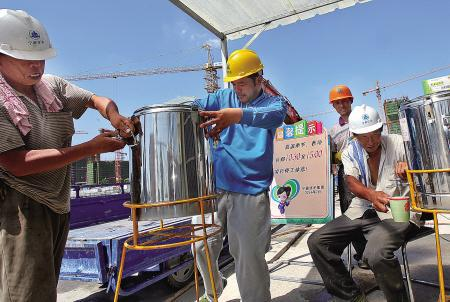helmet: (0, 3, 60, 99), (223, 43, 268, 103), (349, 95, 386, 155), (327, 80, 357, 120)
